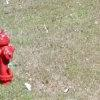Hydrant: (0, 28, 17, 83)
